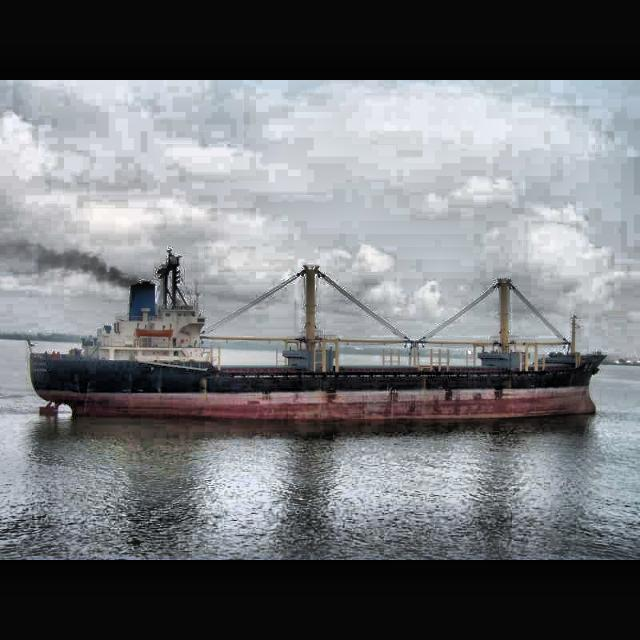bulk_carrier: (29, 250, 607, 422)
